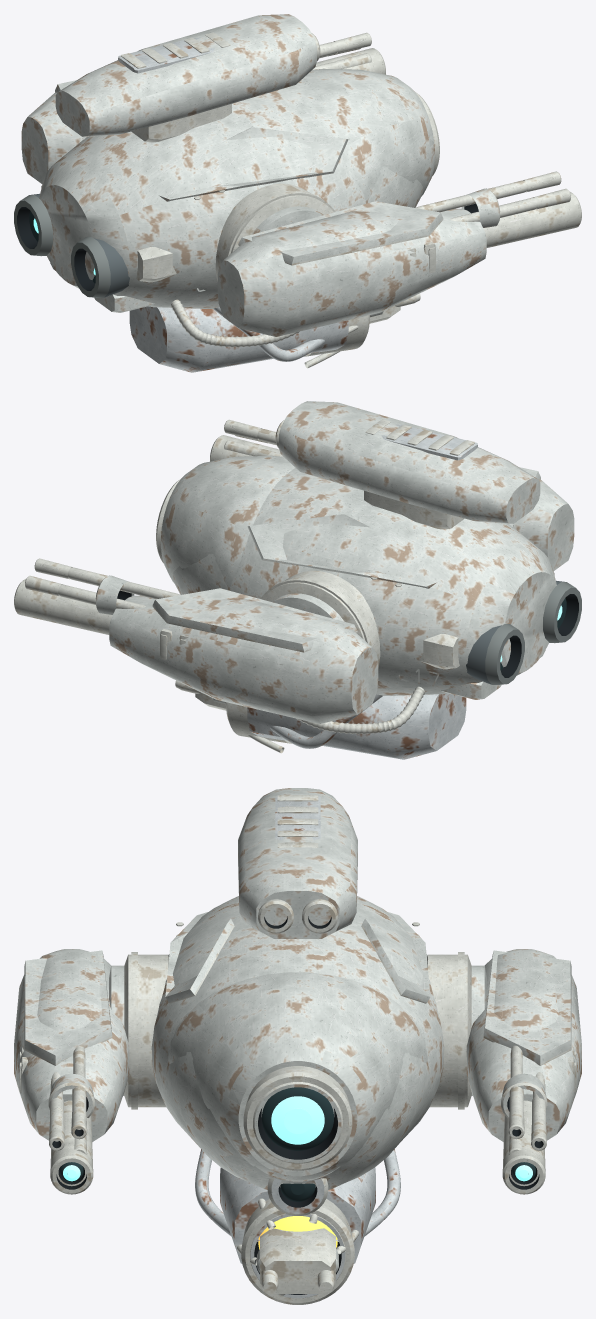
File: arc-elite.glb
The picture shows the model from 3 angles, top to bottom: view 1: azimuth 30°, elevation 25°; view 2: azimuth 150°, elevation 25°; view 3: azimuth 270°, elevation 25°; orthographic projection. The views are drawn at different scales.
Visible parts, largest first — view 1: Curved flight shell, Starboard arc emitter and carriage, Dorsal plasma rack, Thermal cage and coolant feed, Starboard curved armour, Fixed gimbal bearings, Port arc emitter and carriage, Starboard rotary barrels, Port curved armour, Port rotary barrels; view 2: Curved flight shell, Port arc emitter and carriage, Dorsal plasma rack, Thermal cage and coolant feed, Port curved armour, Fixed gimbal bearings, Starboard arc emitter and carriage, Port rotary barrels, Starboard curved armour, Starboard rotary barrels; view 3: Curved flight shell, Port arc emitter and carriage, Starboard arc emitter and carriage, Dorsal plasma rack, Fixed gimbal bearings, Thermal cage and coolant feed, Optical head, Ventral accelerator, Port rotary barrels, Starboard rotary barrels, Starboard curved armour, Port curved armour.
Part boxes in pixels (bbox=[...]): Curved flight shell: bbox=[39, 68, 434, 308]; Starboard arc emitter and carriage: bbox=[217, 192, 581, 336]; Dorsal plasma rack: bbox=[55, 14, 320, 142]; Thermal cage and coolant feed: bbox=[129, 299, 369, 372]; Starboard curved armour: bbox=[71, 127, 348, 312]; Fixed gimbal bearings: bbox=[215, 183, 335, 281]; Port arc emitter and carriage: bbox=[21, 48, 385, 183]; Starboard rotary barrels: bbox=[415, 171, 570, 227]; Port curved armour: bbox=[14, 136, 86, 270]; Port rotary barrels: bbox=[313, 32, 371, 69]; Curved flight shell: bbox=[161, 455, 556, 695]; Port arc emitter and carriage: bbox=[14, 579, 378, 723]; Dorsal plasma rack: bbox=[275, 401, 540, 529]; Thermal cage and coolant feed: bbox=[226, 686, 466, 759]; Port curved armour: bbox=[247, 514, 524, 699]; Fixed gimbal bearings: bbox=[260, 570, 380, 668]; Starboard arc emitter and carriage: bbox=[210, 435, 574, 570]; Port rotary barrels: bbox=[25, 558, 180, 614]; Starboard curved armour: bbox=[509, 523, 581, 657]; Starboard rotary barrels: bbox=[224, 419, 282, 456]; Curved flight shell: bbox=[151, 896, 444, 1189]; Port arc emitter and carriage: bbox=[466, 949, 581, 1194]; Starboard arc emitter and carriage: bbox=[14, 949, 129, 1194]; Dorsal plasma rack: bbox=[238, 788, 357, 938]; Fixed gimbal bearings: bbox=[109, 952, 486, 1109]; Thermal cage and coolant feed: bbox=[195, 1149, 400, 1304]; Optical head: bbox=[243, 1066, 352, 1215]; Ventral accelerator: bbox=[257, 1228, 338, 1294]; Port rotary barrels: bbox=[501, 1045, 547, 1154]; Starboard rotary barrels: bbox=[48, 1045, 94, 1154]; Starboard curved armour: bbox=[165, 912, 234, 1003]; Port curved armour: bbox=[361, 912, 430, 1003].
Size of the model in its own units: 8.78 by 6.87 by 8.93.
12 materials, 6 textured.
